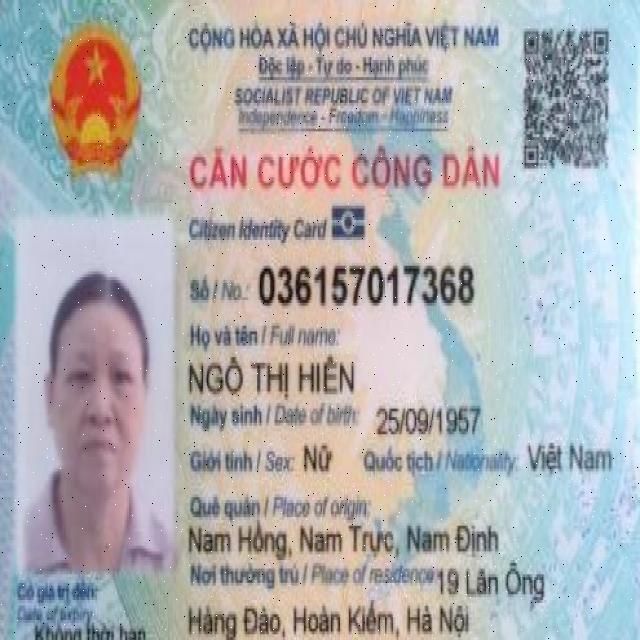current_place: (187, 601, 470, 640), (435, 561, 546, 602)
dob: (376, 406, 482, 436)
expire_date: (34, 622, 150, 640)
gender: (302, 440, 332, 476)
id: (259, 261, 477, 308)
name: (189, 351, 357, 396)
nationality: (527, 440, 614, 478)
origin_place: (186, 520, 502, 561)
